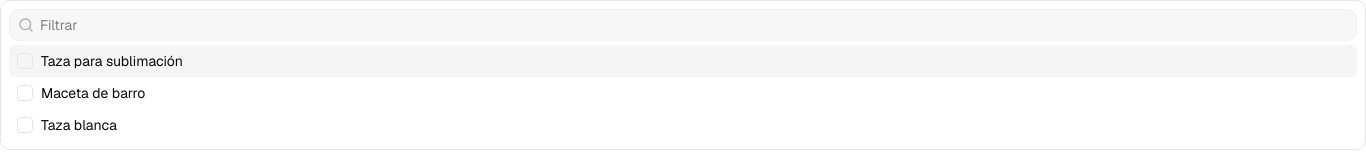
Test: SelectionList › filtra ignorando acentos y mayúsculas
Type "SUBLIMACION" into the dropdown named "Productos" at (695, 25), box [34,15,1356,35]
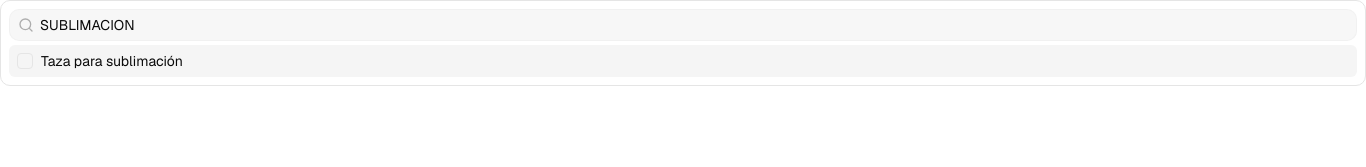
Result: the number of options is 1 at [9,45,1357,77]
